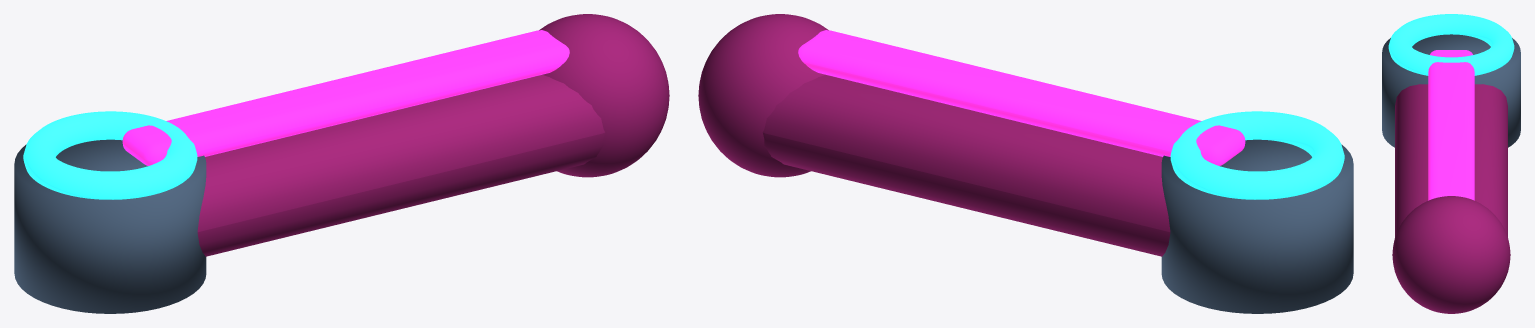
The model's file is flipper.glb.
3 renders of one model, left to right at view 1: azimuth 30°, elevation 25°; view 2: azimuth 150°, elevation 25°; view 3: azimuth 270°, elevation 25°, orthographic. The views are drawn at different scales.
Visible parts, largest first — view 1: Flipper_Body, Flipper_Pivot, Flipper_Inlay, Flipper_Tip, Flipper_PivotGlow; view 2: Flipper_Body, Flipper_Pivot, Flipper_Inlay, Flipper_Tip, Flipper_PivotGlow; view 3: Flipper_Tip, Flipper_Body, Flipper_Inlay, Flipper_Pivot, Flipper_PivotGlow.
Part boxes in pixels (x1,y1,x2,y2): Flipper_Body: [197, 74, 605, 256]; Flipper_Pivot: [14, 139, 206, 313]; Flipper_Inlay: [122, 30, 569, 165]; Flipper_Tip: [539, 14, 669, 177]; Flipper_PivotGlow: [23, 111, 197, 199]; Flipper_Body: [762, 74, 1170, 256]; Flipper_Pivot: [1161, 139, 1353, 313]; Flipper_Inlay: [798, 30, 1245, 165]; Flipper_Tip: [698, 14, 828, 177]; Flipper_PivotGlow: [1170, 111, 1344, 199]; Flipper_Tip: [1392, 196, 1510, 313]; Flipper_Body: [1395, 84, 1507, 236]; Flipper_Inlay: [1428, 50, 1474, 200]; Flipper_Pivot: [1382, 34, 1520, 147]; Flipper_PivotGlow: [1388, 14, 1514, 75].
Size of the model in its own units: 2.05 by 0.46 by 0.54.
